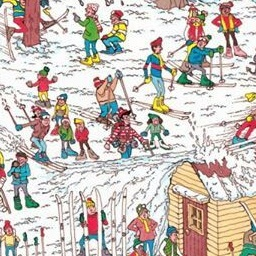waldo: (112, 110, 145, 158), (110, 109, 145, 147), (119, 109, 133, 127)
